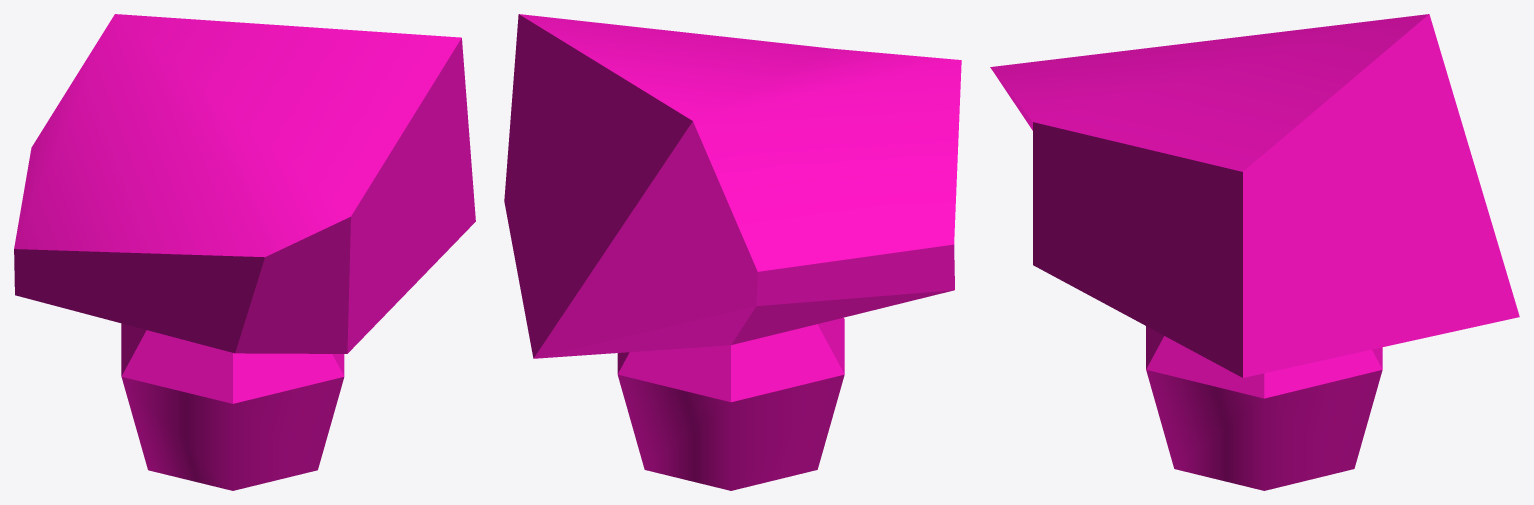
File: study_plant_1_meshCollider.fbx
The picture shows the model from 3 angles, left to right: view 1: azimuth 30°, elevation 25°; view 2: azimuth 150°, elevation 25°; view 3: azimuth 270°, elevation 25°; orthographic projection. The views are drawn at different scales.
Parts seen in each view (by area): view 1: study_plant_1_meshCollider; view 2: study_plant_1_meshCollider; view 3: study_plant_1_meshCollider.
Part boxes in pixels (x1,y1,x2,y2): study_plant_1_meshCollider: (14,14,475,490); study_plant_1_meshCollider: (504,14,961,490); study_plant_1_meshCollider: (990,14,1519,490).
Bounding box in the file's own units: 59.91 × 49.23 × 57.34.
